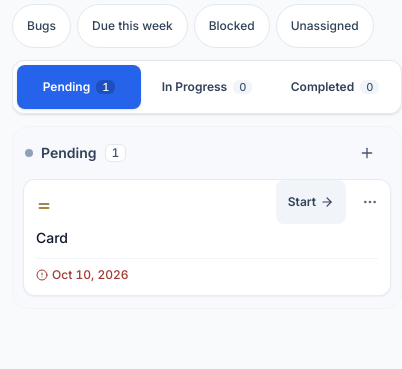
Test case: BoardView status switcher (phones) › offers a "Moved to ... · View" chip that switches to the column the card went to
Click the button with aria-label "Start Card: move to In Progress".
click(311, 202)  # box [276,180,346,224]
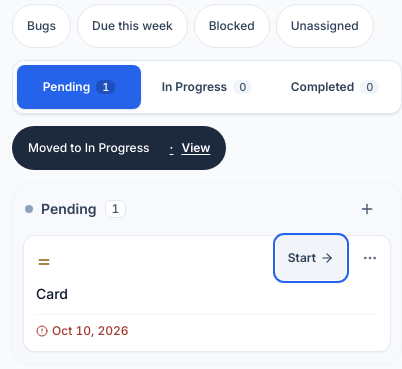
Expected: the message shows "Moved to In Progress", [28,140,150,155]
Click the button with aria-label "View In Progress".
click(190, 148)  # box [158,126,222,170]
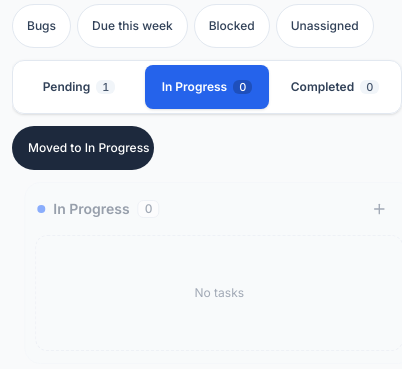
Expected: the button "· View" is gone
